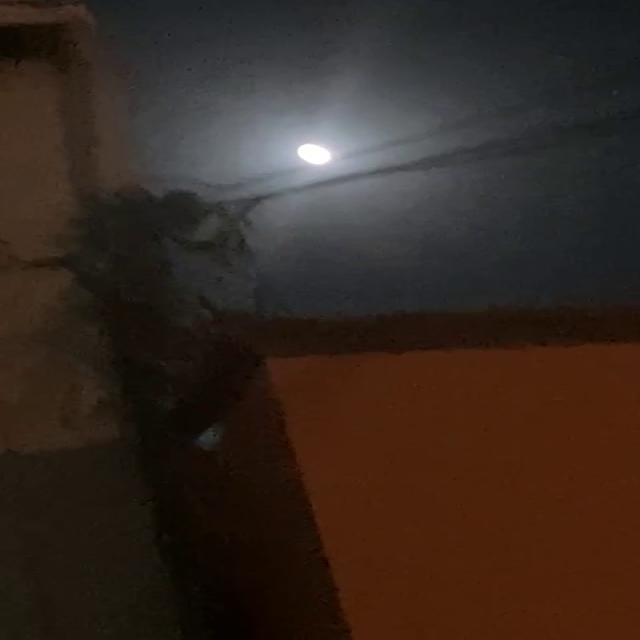moon: (294, 157, 348, 200)
